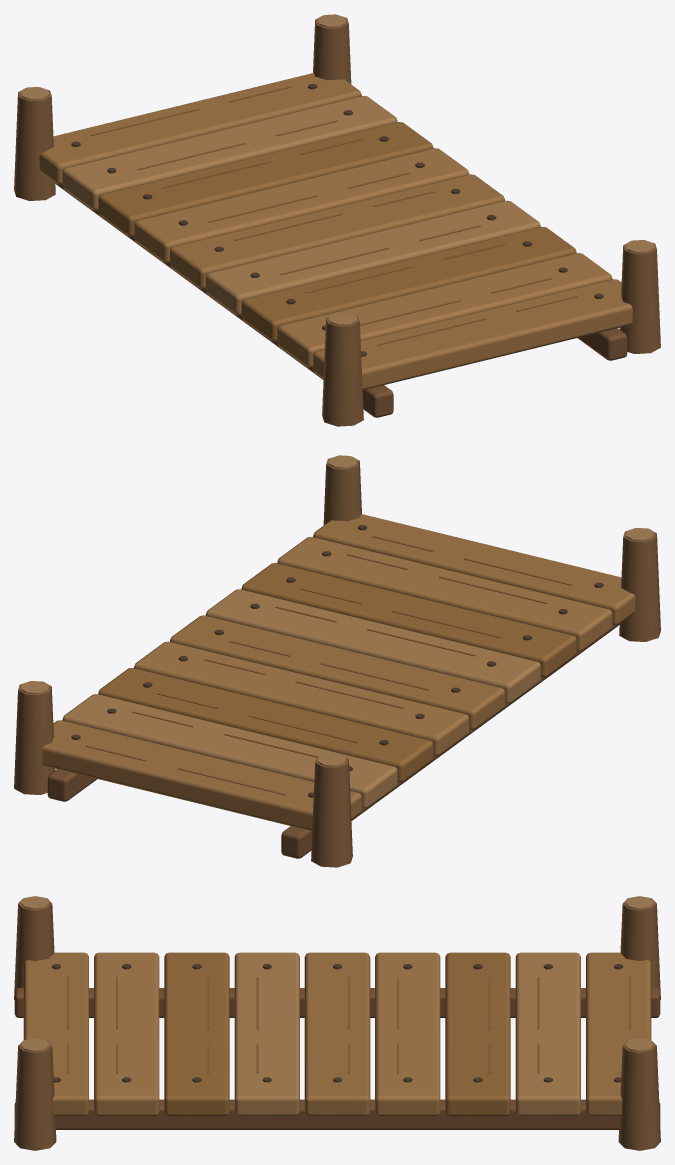
Rendered from pond-dock.glb.
The picture shows the model from 3 angles, top to bottom: view 1: azimuth 30°, elevation 25°; view 2: azimuth 150°, elevation 25°; view 3: azimuth 270°, elevation 25°; orthographic projection.
Visible parts, largest first — view 1: pond-dock; view 2: pond-dock; view 3: pond-dock.
Boxes of the visible parts, bbox=[...] form: pond-dock: bbox=[14, 14, 660, 426]; pond-dock: bbox=[14, 455, 660, 867]; pond-dock: bbox=[14, 896, 660, 1150].
Size of the model in its own units: 2.32 by 0.658 by 3.96.
